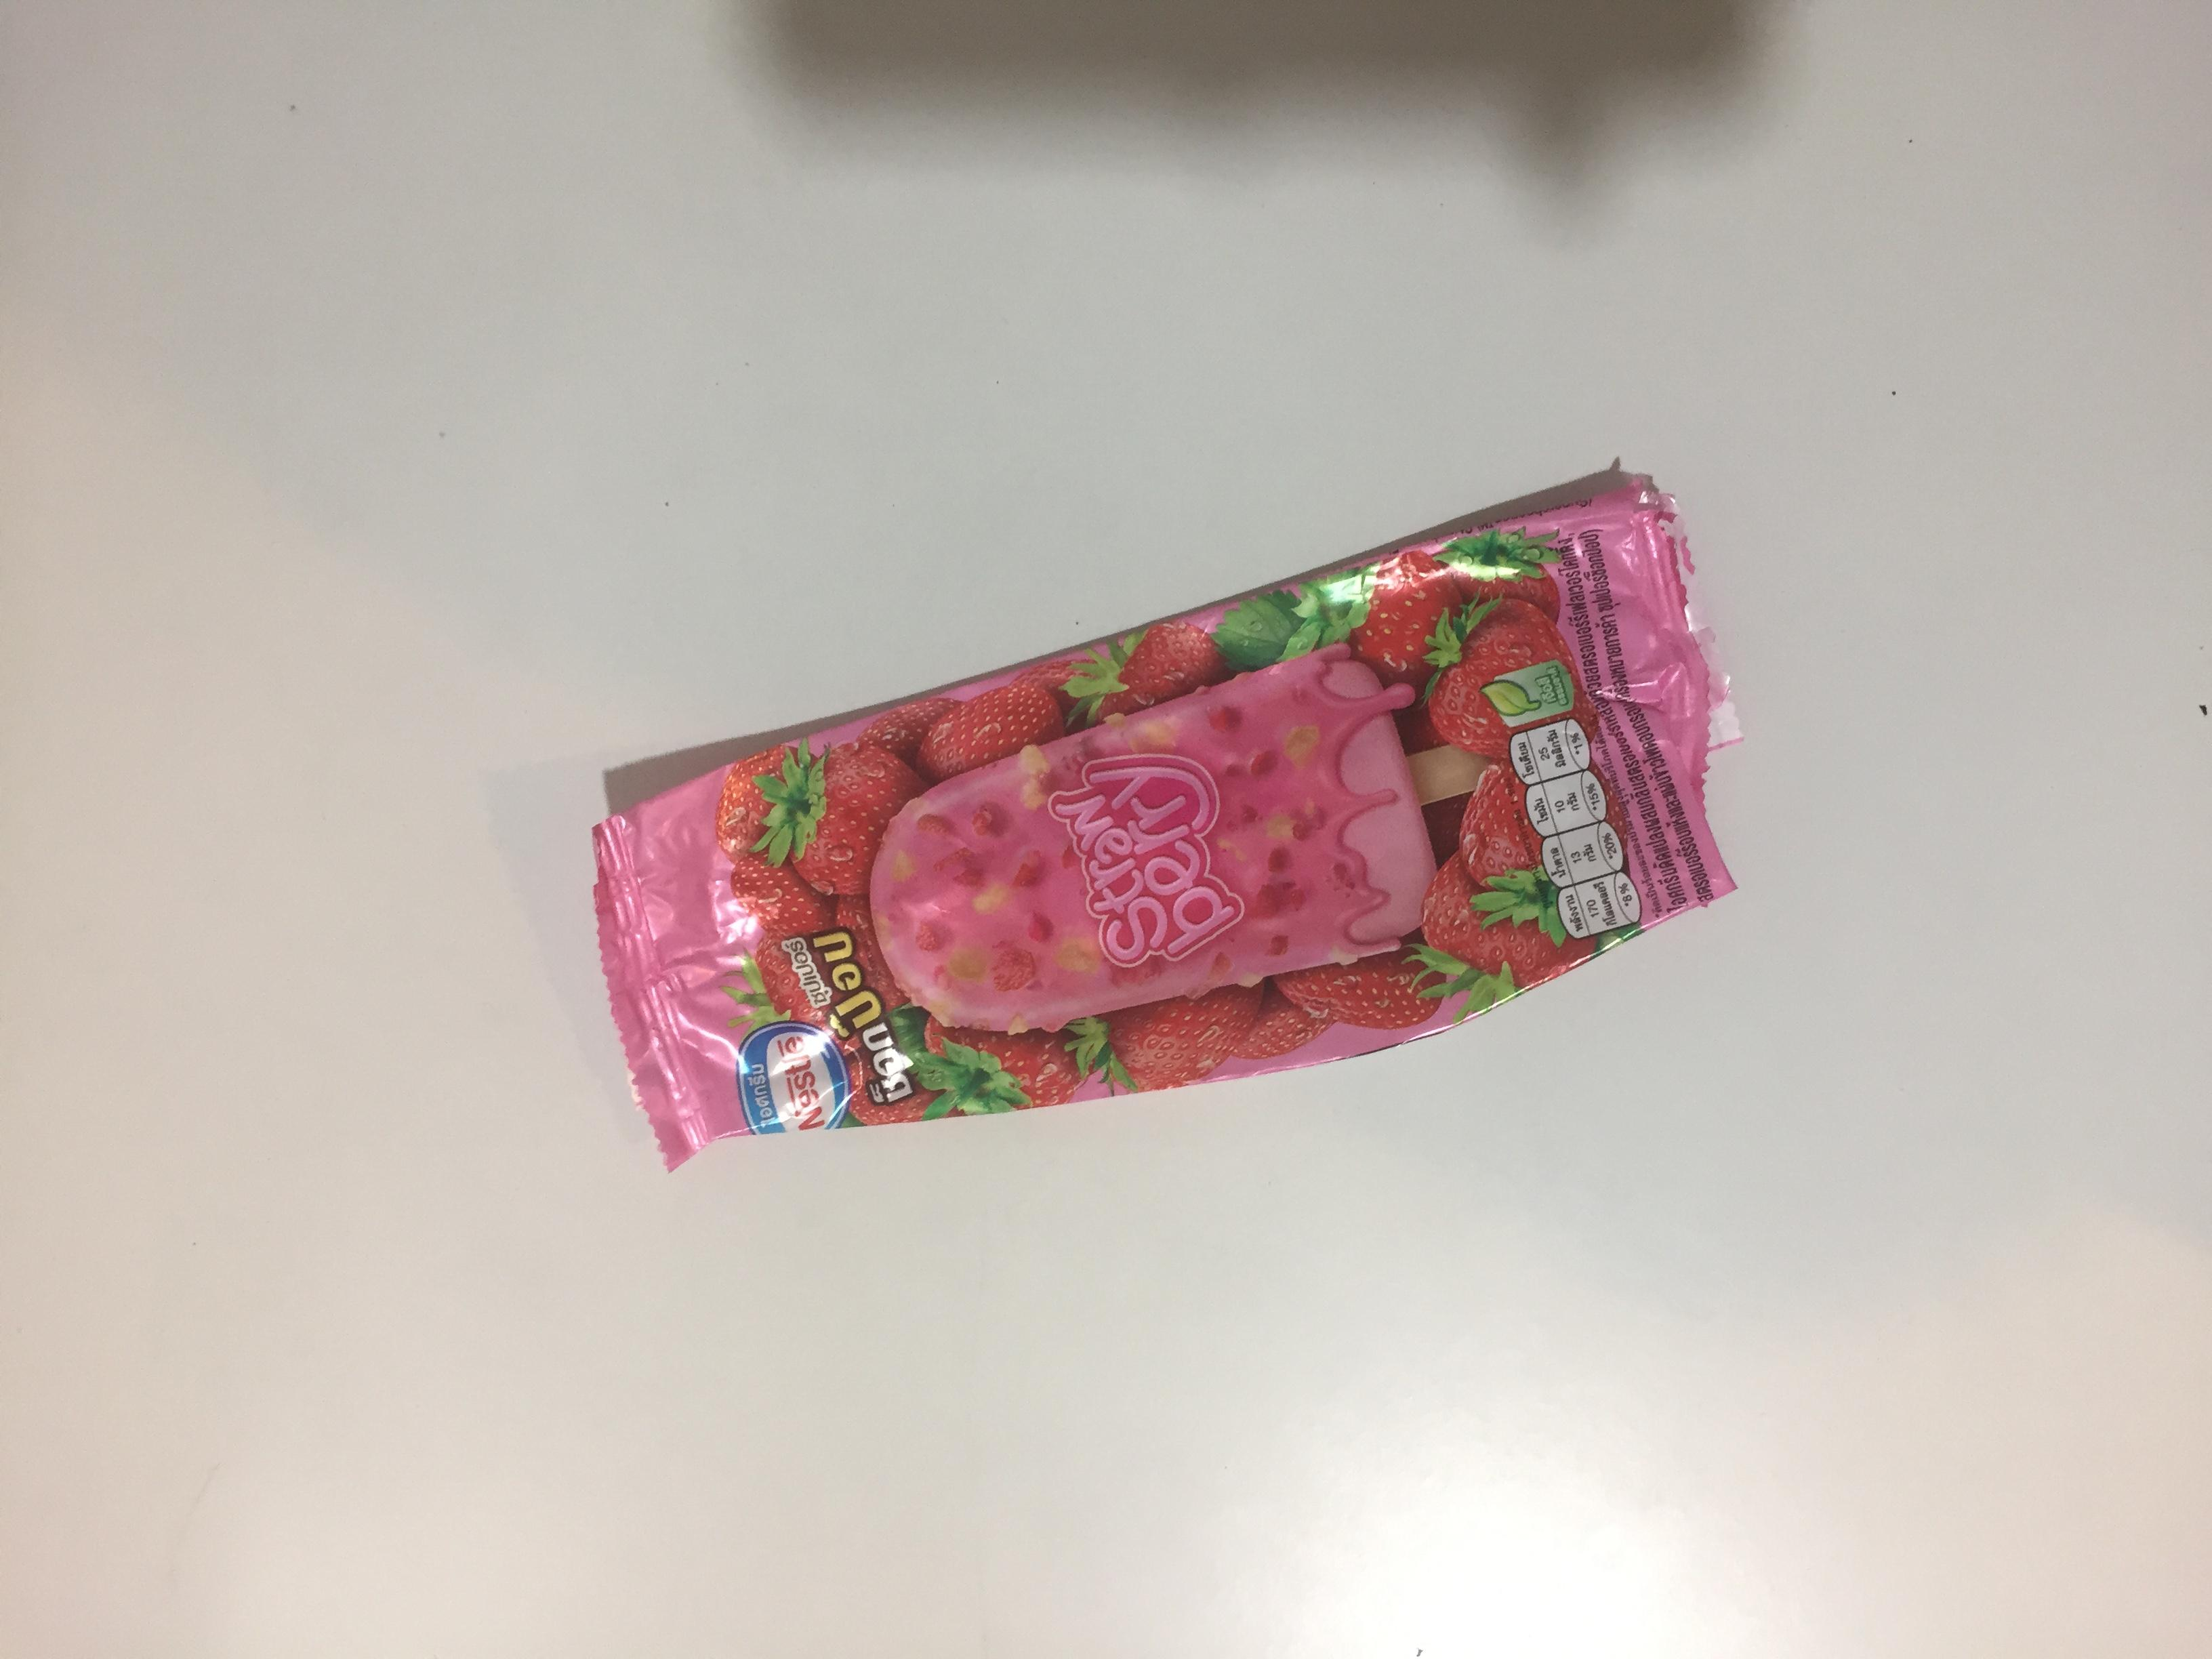plastic: (446, 483, 1672, 1204)
